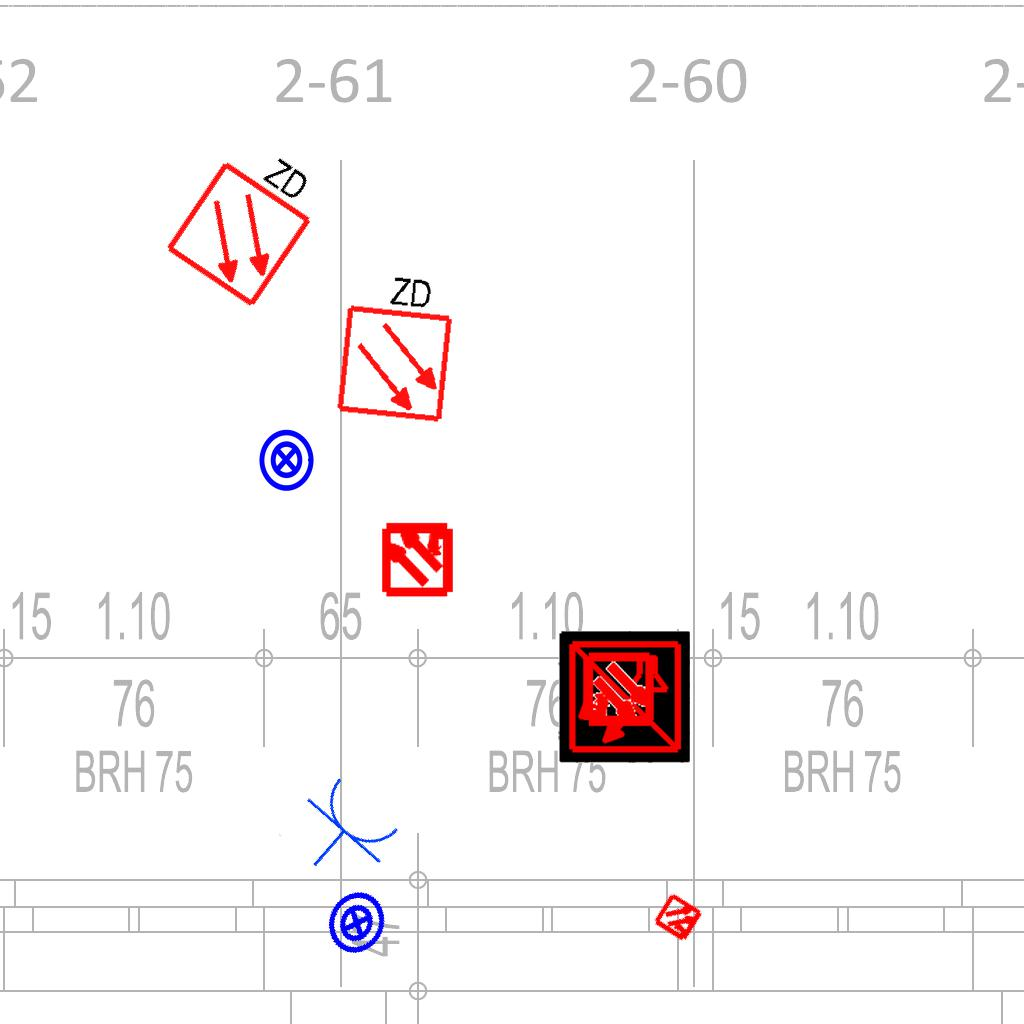OKW_Multisensormelder_(Kombination_optischer_Rauch-Kahlenmonoxid_Waerme-Melder): (558, 631, 690, 763)
OT_Multisensormelder_(Kombination_RMO_WMD): (361, 501, 474, 614), (562, 635, 675, 748), (640, 879, 718, 957)
Schukosteckdose_einfach: (276, 767, 410, 900)
Taster_beleuchtet: (314, 880, 400, 966), (253, 427, 319, 493)
ZD_Melder_in_Zwischendecke_mit_Revisionsoeffnung_mind_40_x_40_cm: (159, 123, 337, 312), (330, 264, 460, 425)
